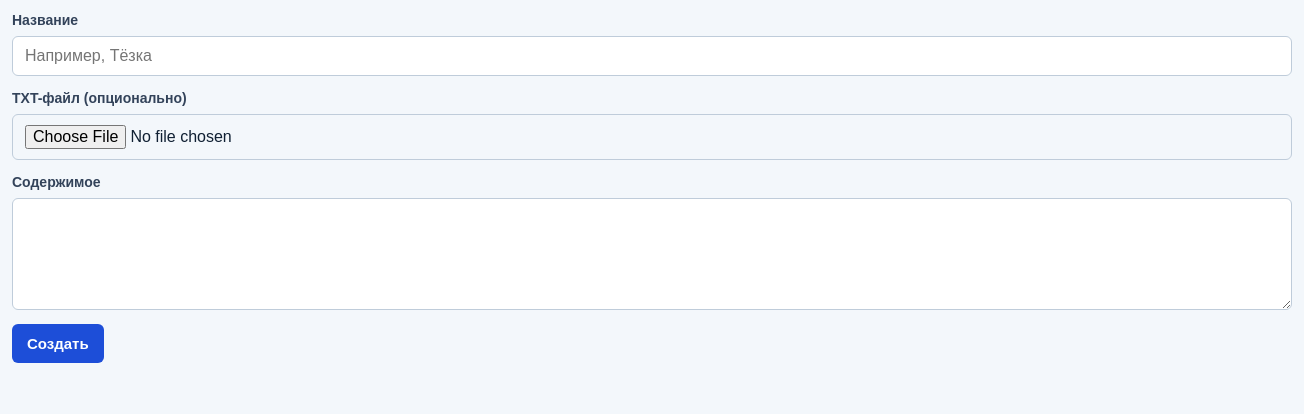
shows a validation error when neither a file nor content is provided
The width and height of the screenshot is (1304, 414).
Click the button "Создать" at (58, 344), box [12, 324, 104, 363]
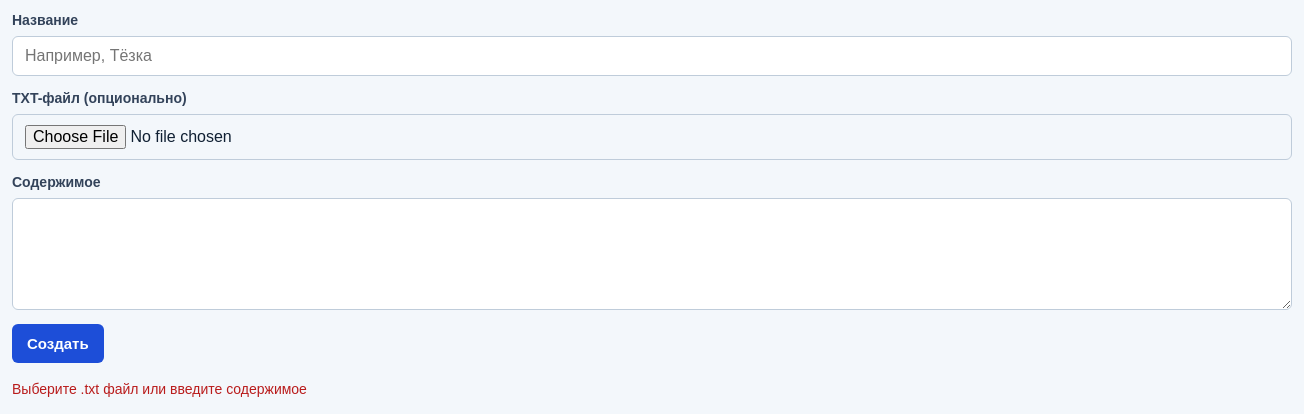
Now the text "Выберите .txt файл или введите содержимое" is shown, box [12, 381, 307, 397]
